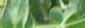Tomato mold leaf: (55, 0, 85, 28), (1, 0, 29, 28)
